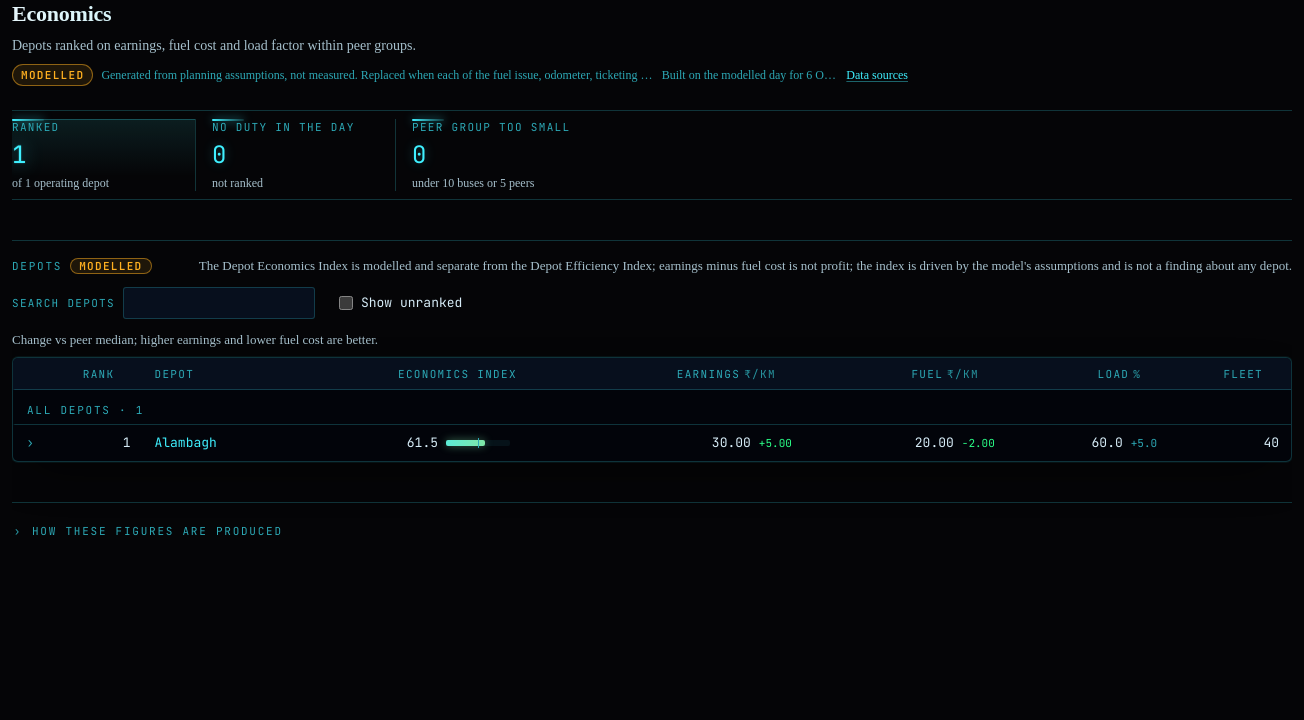
Test: EconomicsPage › opens the breakdown from the index cell as an expanded row directly under its row
Click the button "61.5": (493, 443) [398,433,589,453]
(page scrolled)
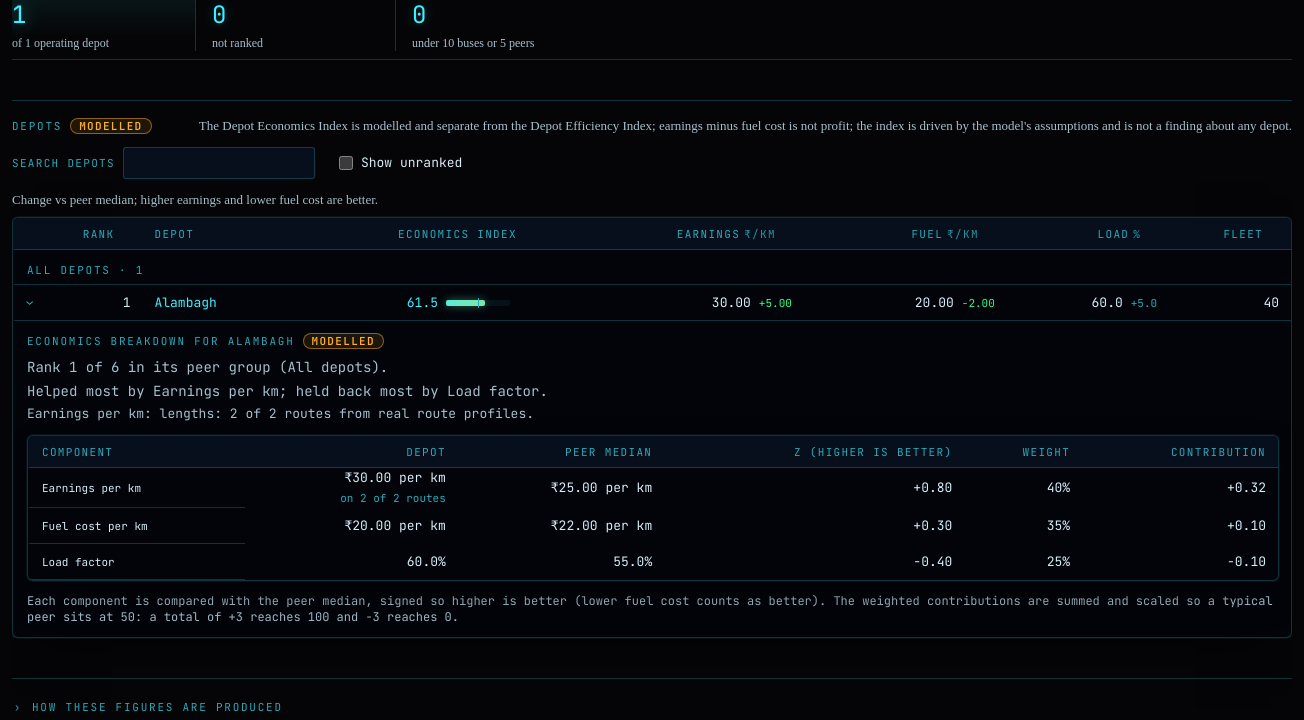
Result: the button "61.5" is expanded at [398,292,589,312]
Result: the row "› 1 Alambagh 61.5 30.00+5.00 20.00−2.00 60.0+5.0 40" is expanded at [13,285,1291,321]
Result: the heading with id "economics-breakdown-title" reads "Economics breakdown for Alambagh" at [27,334,294,348]
